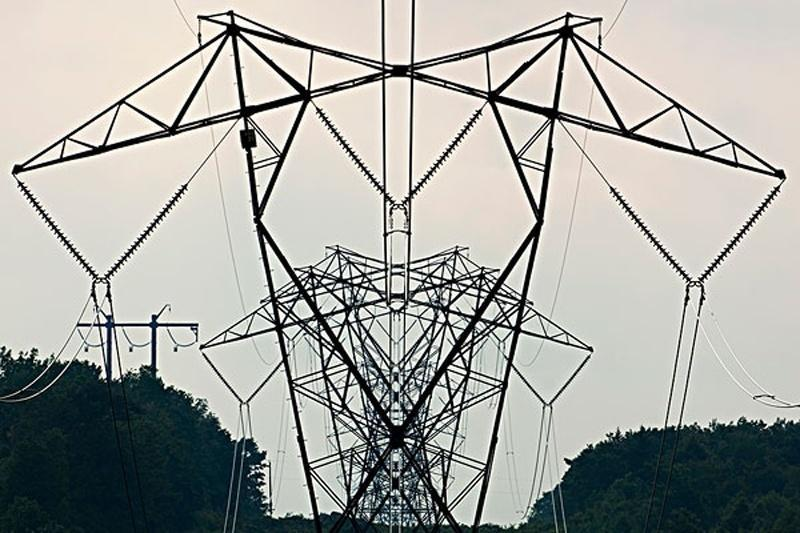power_tower: (12, 10, 787, 530), (74, 300, 198, 368)
